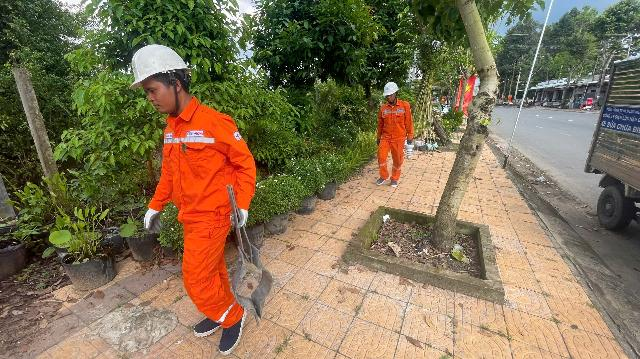gloves: (129, 207, 171, 236), (224, 205, 253, 234), (374, 137, 384, 148), (406, 136, 414, 147)
helmet: (117, 36, 196, 94), (381, 80, 403, 101)
shoes: (176, 294, 222, 339), (207, 315, 252, 356), (371, 173, 387, 188), (385, 175, 400, 190)
